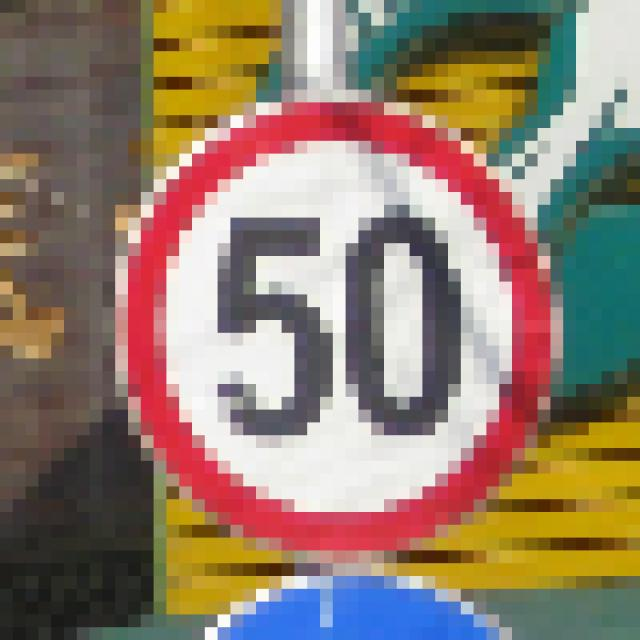Limite-50: (112, 85, 560, 560)
